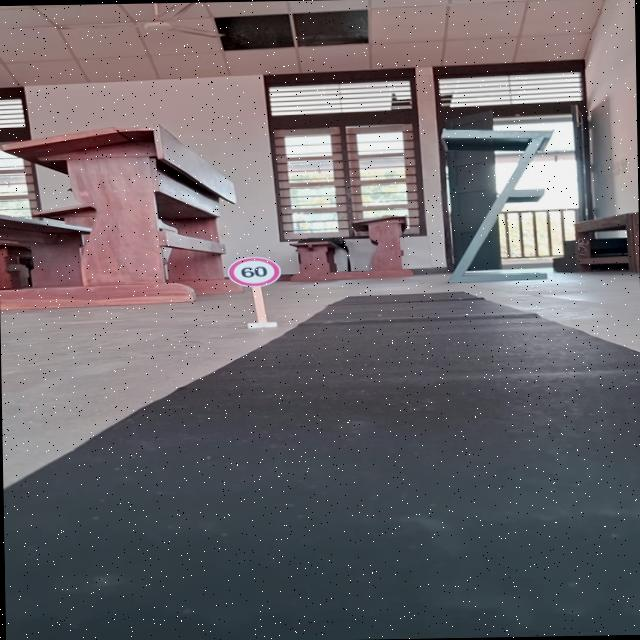Speed60: (226, 254, 284, 288)
